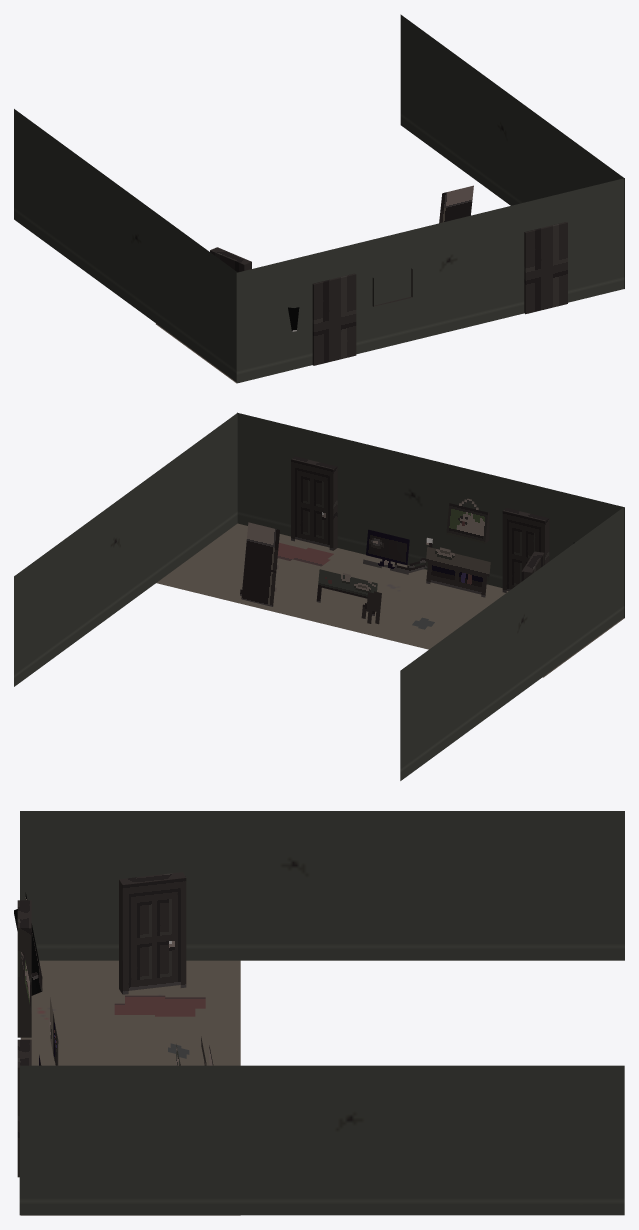
File: LivingRoom.fbx
3 views of the same model, one above another, from view 1: azimuth 30°, elevation 25°; view 2: azimuth 150°, elevation 25°; view 3: azimuth 270°, elevation 25° (orthographic). The views are drawn at different scales.
Parts seen in each view (by area): view 1: LR_Wall, LR_Wall1, LR_Wall2, LR_Door_BD, LR_Door_OS, LR_Fridge, LR_Door_BR; view 2: LR_Wall, LR_Wall2, LR_Wall1, LR_Floor, LR_Door_OS, LR_Door_BD, LR_Fridge, LR_Shelf, LR_TV, LR_Door_Photo, LR_Table, LR_Rug_1; view 3: LR_Wall2, LR_Wall1, LR_Floor, LR_Door_BR, LR_Rug_2, LR_Door_BD, LR_Door_Photo, LR_Door_OS, LR_Lamp.
Part boxes in pixels (x1=…): LR_Wall: x1=236, y1=178, x2=624, y2=383; LR_Wall1: x1=14, y1=109, x2=237, y2=381; LR_Wall2: x1=400, y1=14, x2=624, y2=288; LR_Door_BD: x1=312, y1=273, x2=356, y2=365; LR_Door_OS: x1=524, y1=222, x2=567, y2=314; LR_Fridge: x1=439, y1=185, x2=473, y2=223; LR_Door_BR: x1=210, y1=247, x2=251, y2=272; LR_Wall: x1=237, y1=412, x2=624, y2=617; LR_Wall2: x1=14, y1=413, x2=237, y2=686; LR_Wall1: x1=400, y1=507, x2=623, y2=780; LR_Floor: x1=156, y1=523, x2=624, y2=677; LR_Door_OS: x1=291, y1=456, x2=337, y2=550; LR_Door_BD: x1=502, y1=508, x2=549, y2=592; LR_Fridge: x1=240, y1=522, x2=279, y2=606; LR_Shelf: x1=425, y1=546, x2=490, y2=597; LR_TV: x1=363, y1=529, x2=432, y2=574; LR_Door_Photo: x1=446, y1=498, x2=489, y2=543; LR_Table: x1=316, y1=569, x2=377, y2=615; LR_Rug_1: x1=277, y1=542, x2=333, y2=566; LR_Wall2: x1=19, y1=1065, x2=624, y2=1215; LR_Wall1: x1=20, y1=811, x2=624, y2=960; LR_Floor: x1=20, y1=960, x2=240, y2=1215; LR_Door_BR: x1=119, y1=872, x2=186, y2=994; LR_Rug_2: x1=114, y1=995, x2=205, y2=1016; LR_Door_BD: x1=17, y1=900, x2=31, y2=1037; LR_Door_Photo: x1=17, y1=950, x2=31, y2=1015; LR_Door_OS: x1=17, y1=1039, x2=31, y2=1177; LR_Lamp: x1=14, y1=892, x2=42, y2=995.
Bounding box in the file's own units: 2200 × 609 × 2222.
13 materials, 13 textured.
